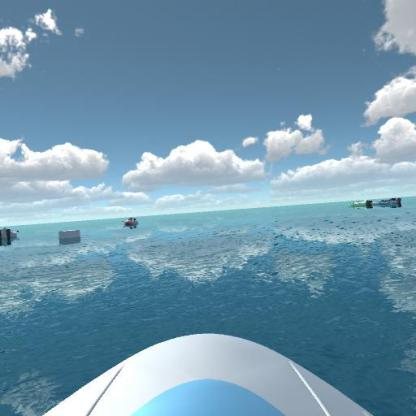usv0: (348, 198, 374, 211)
usv1: (374, 192, 405, 212), (0, 220, 21, 246)
usv3: (120, 214, 141, 231)
